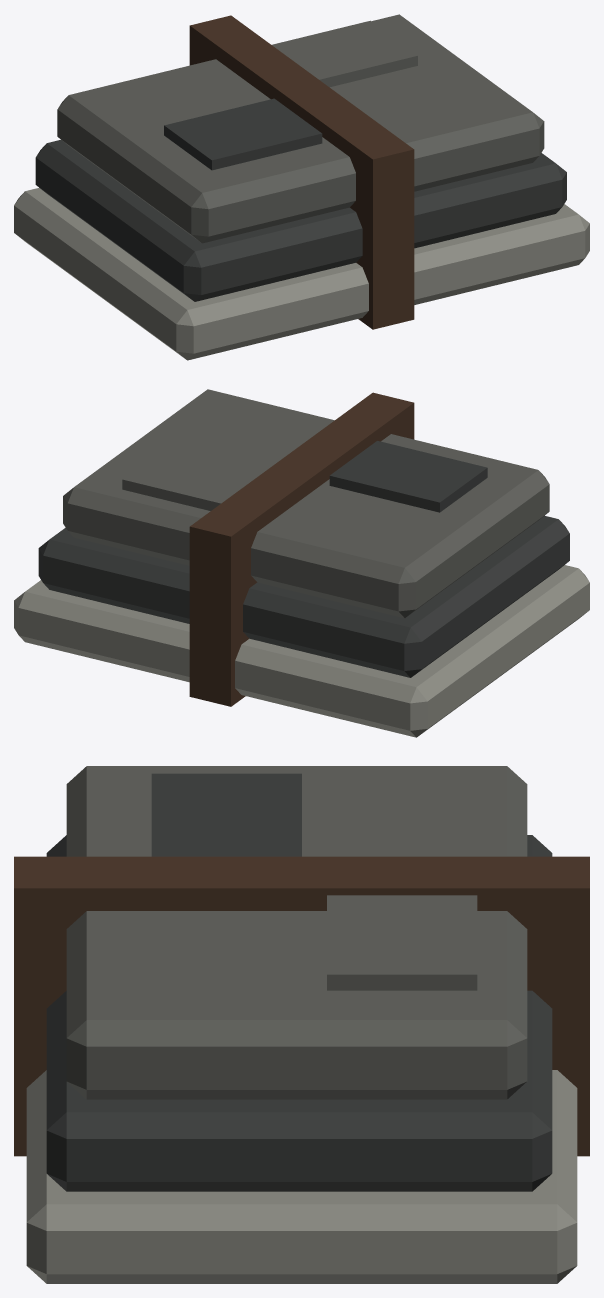
Rendered from mod_cloth_camo_urban.glb.
3 views of the same model, one above another, from view 1: azimuth 30°, elevation 25°; view 2: azimuth 150°, elevation 25°; view 3: azimuth 270°, elevation 25° (orthographic). The views are drawn at different scales.
Parts seen in each view (by area): view 1: camo_urban; view 2: camo_urban; view 3: camo_urban.
Part boxes in pixels (x1,y1,x2,y2): camo_urban: (14, 14, 589, 360); camo_urban: (14, 389, 589, 737); camo_urban: (14, 766, 589, 1283).
Size of the model in its own units: 0.3 by 0.118 by 0.23.
